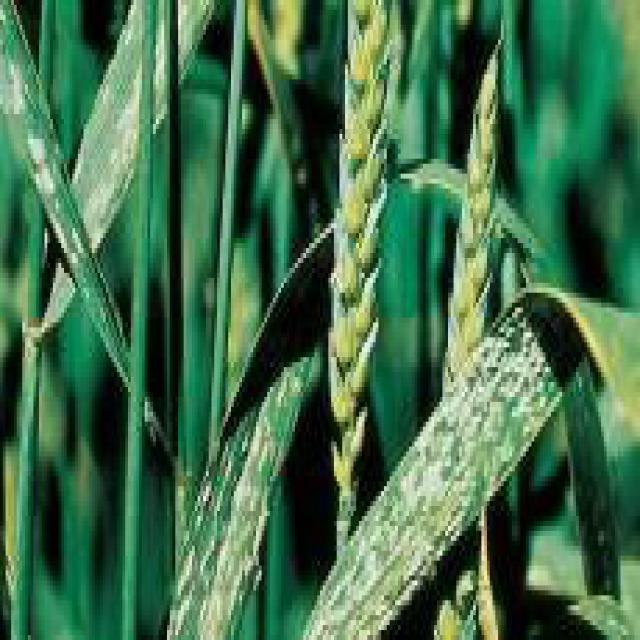wheat-powdery-mildew: (303, 301, 580, 640), (170, 269, 324, 639)
